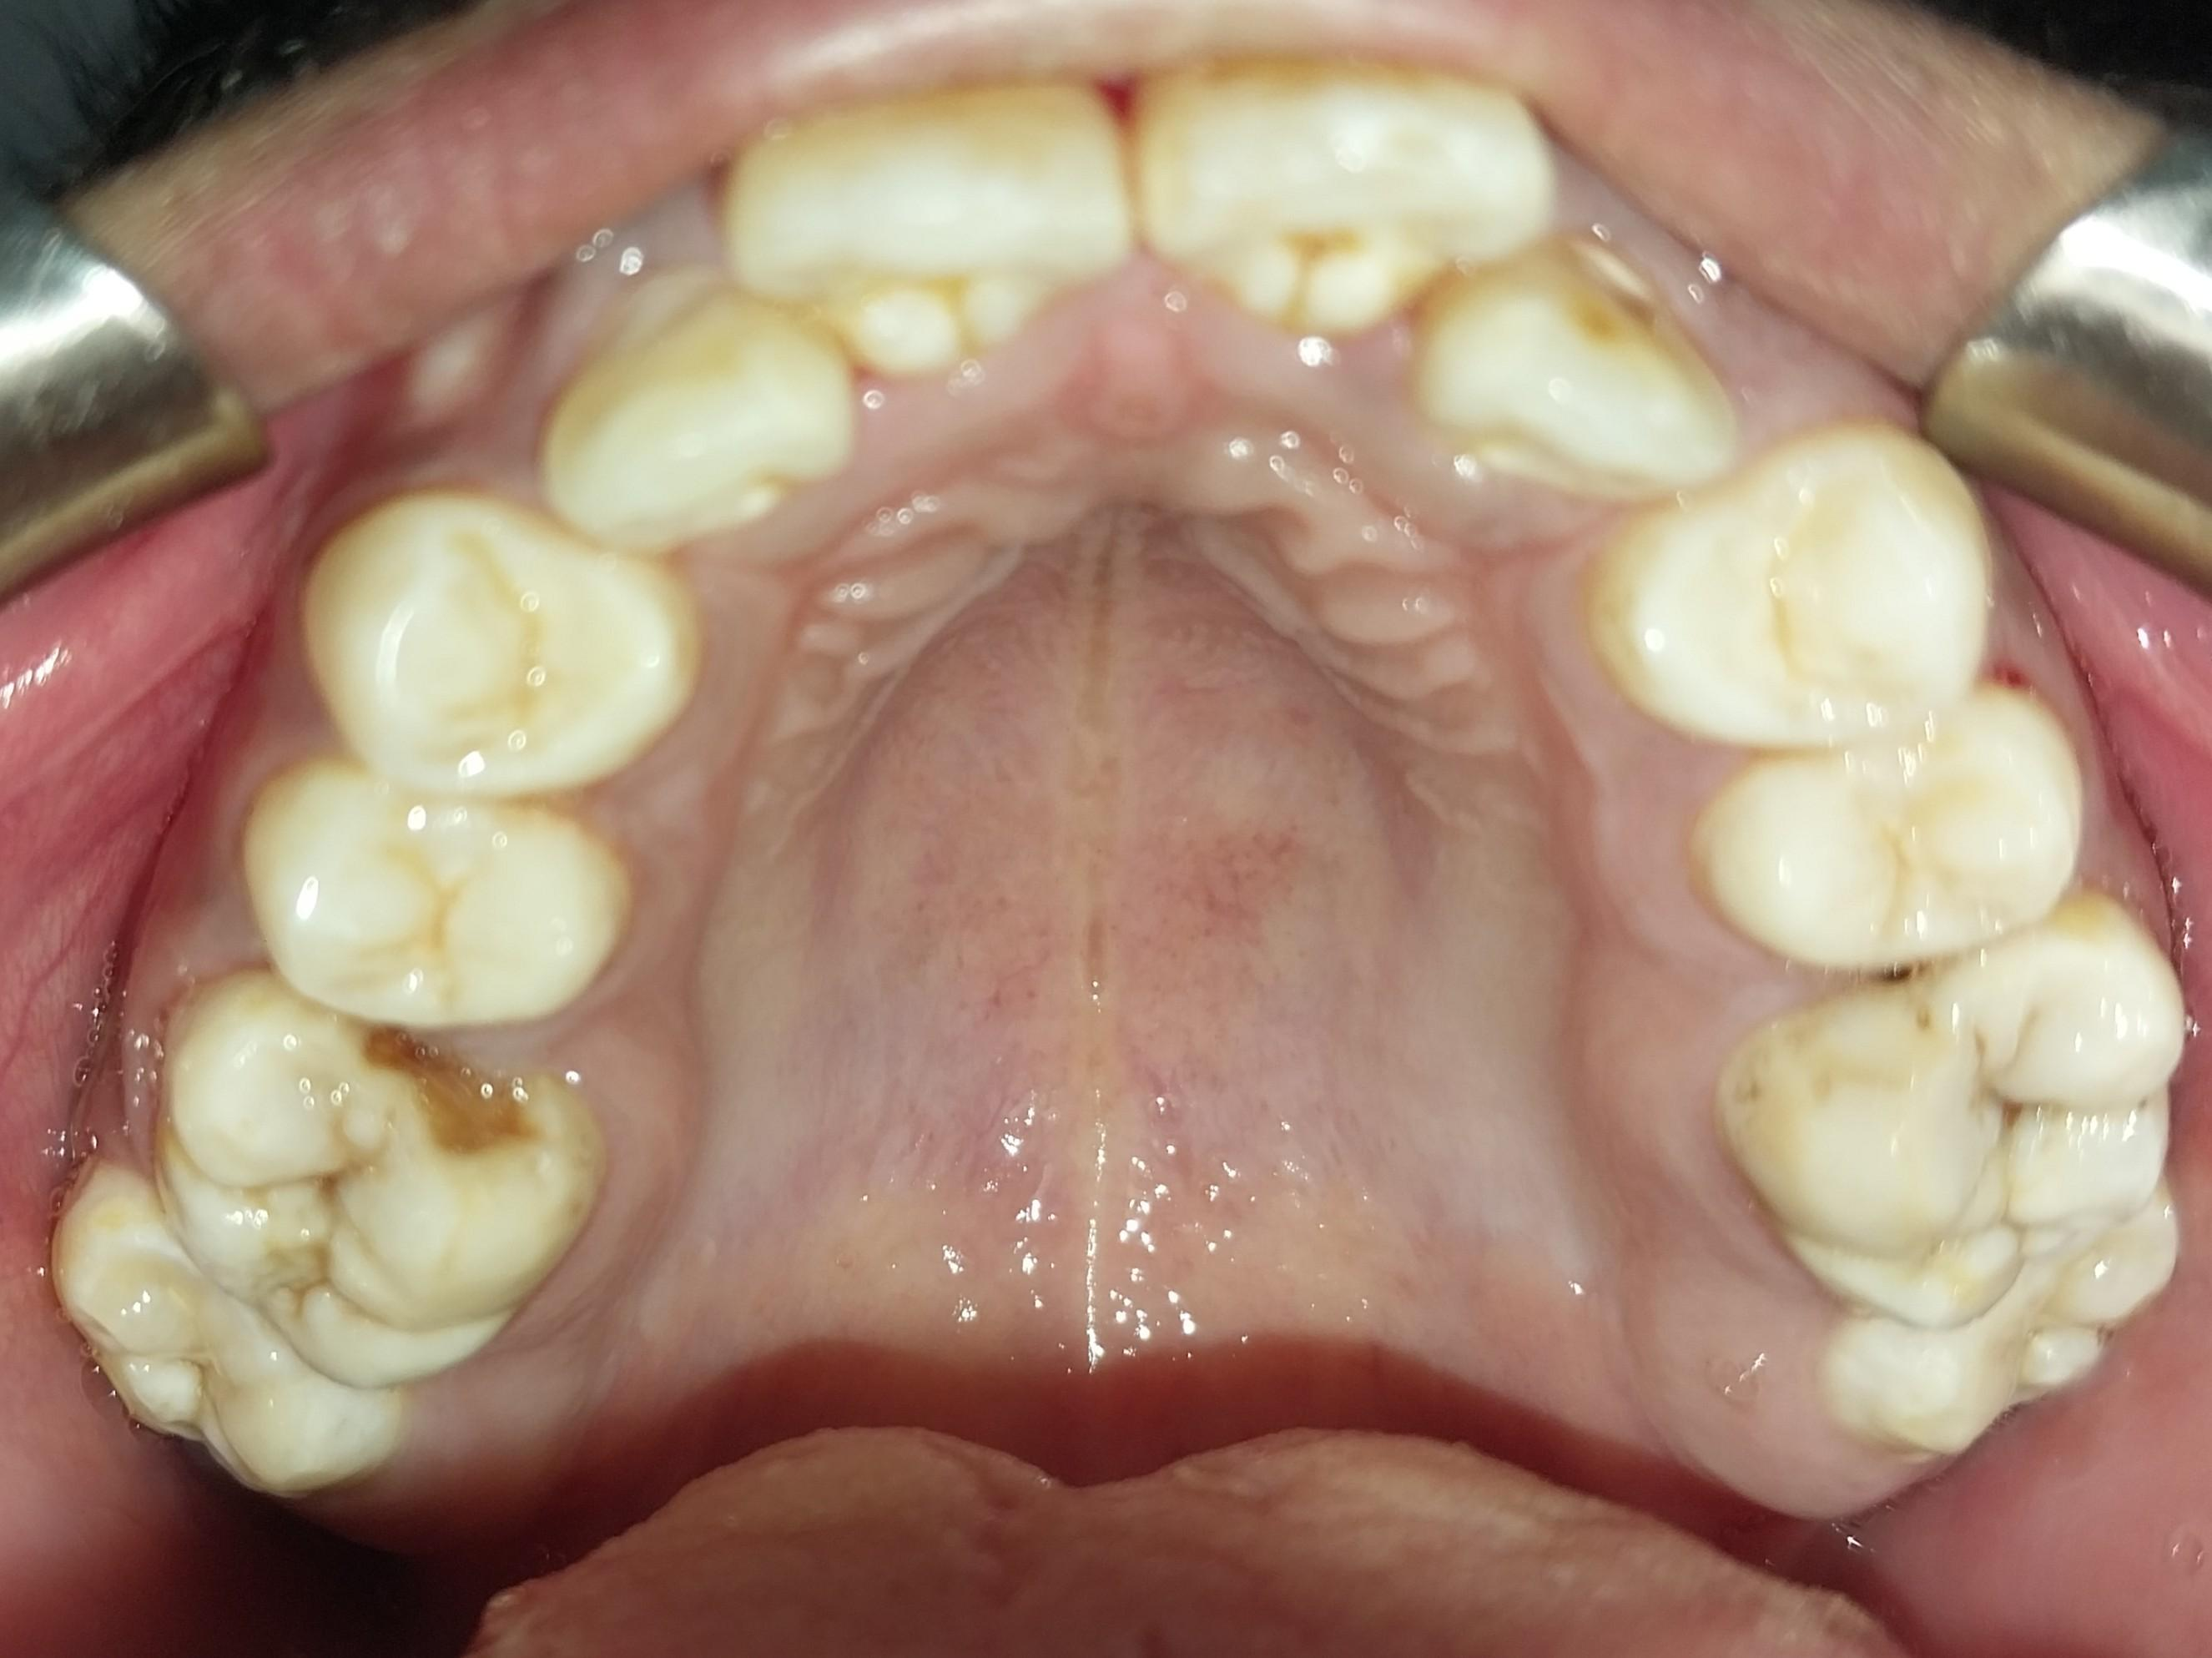D: (154, 970, 596, 1386)
